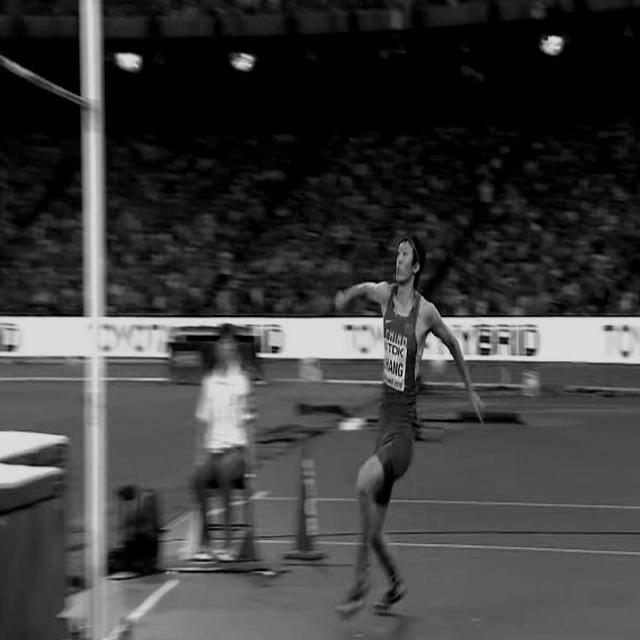run: (332, 231, 486, 616)
